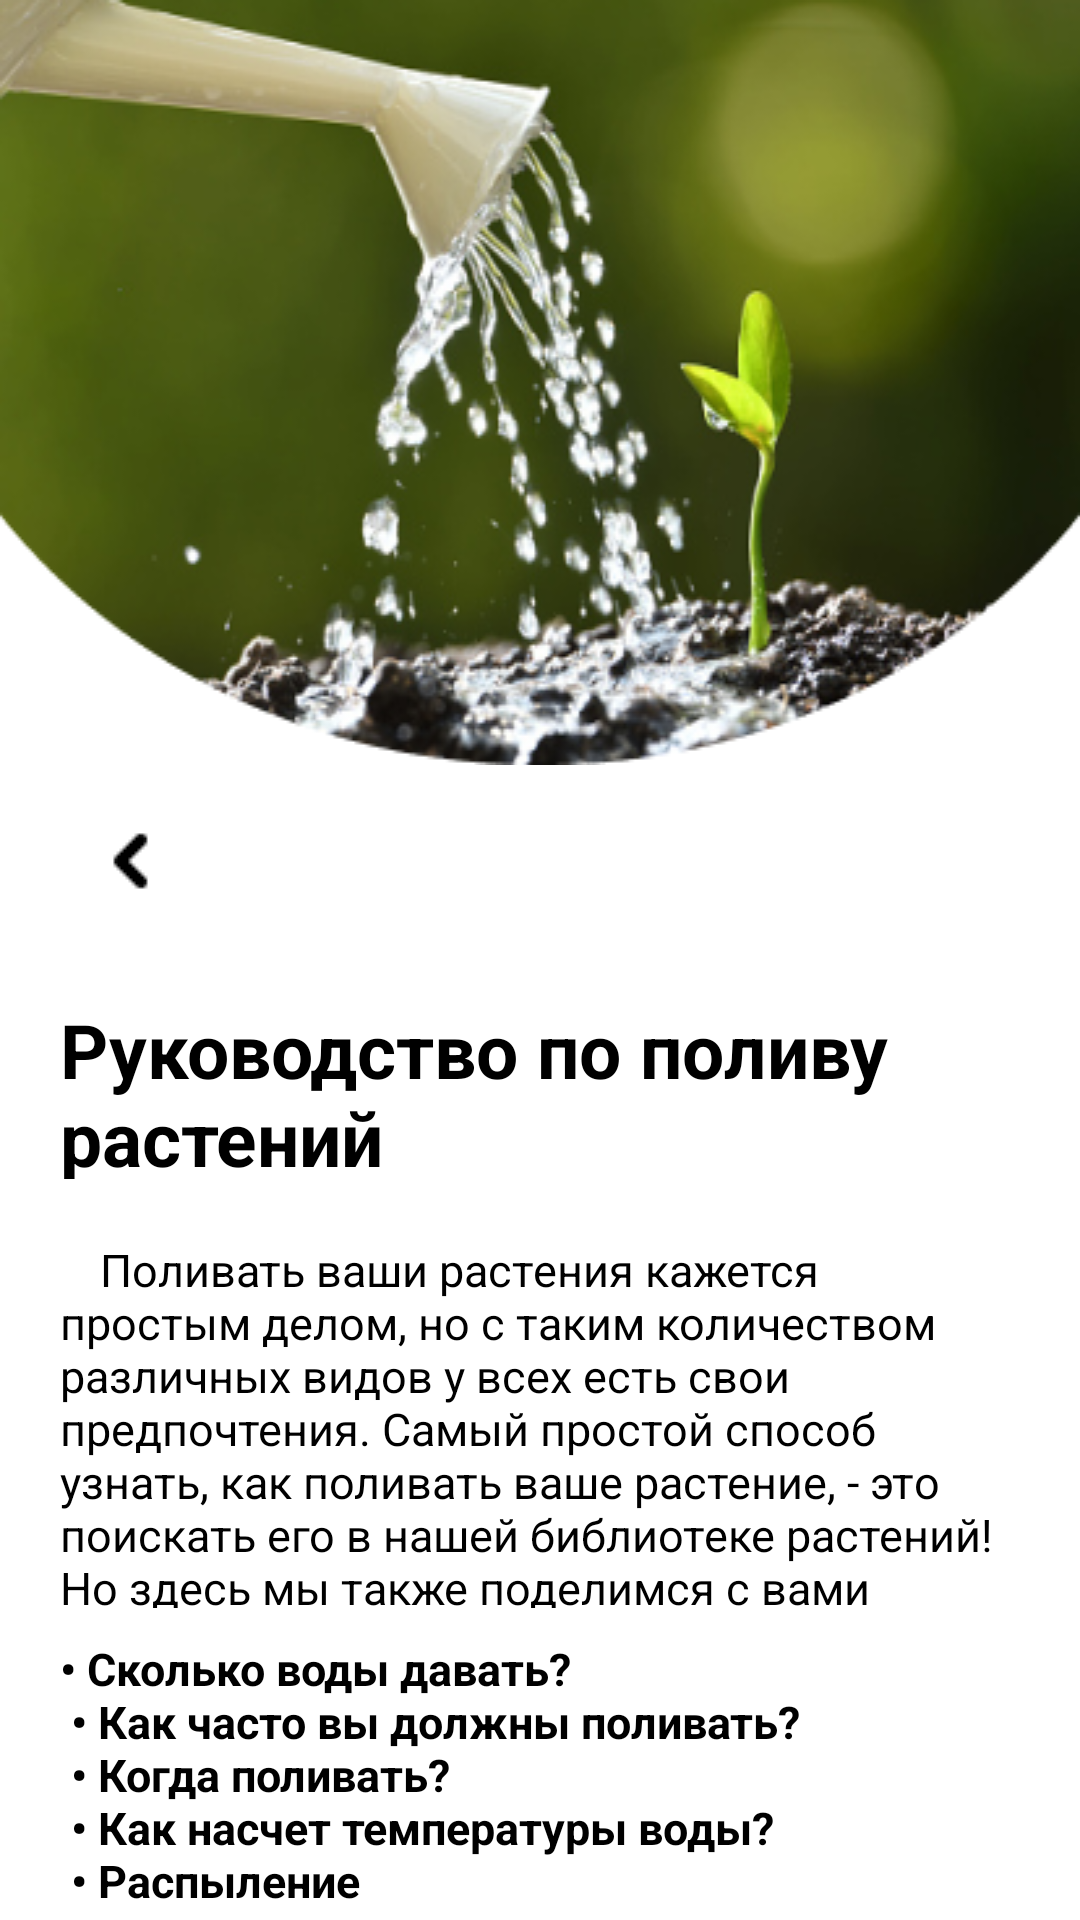

Where icons sit on this 1080w x 1920h app screen, as (x1, y1, x2, y2):
aid back: (113, 833, 148, 889)
